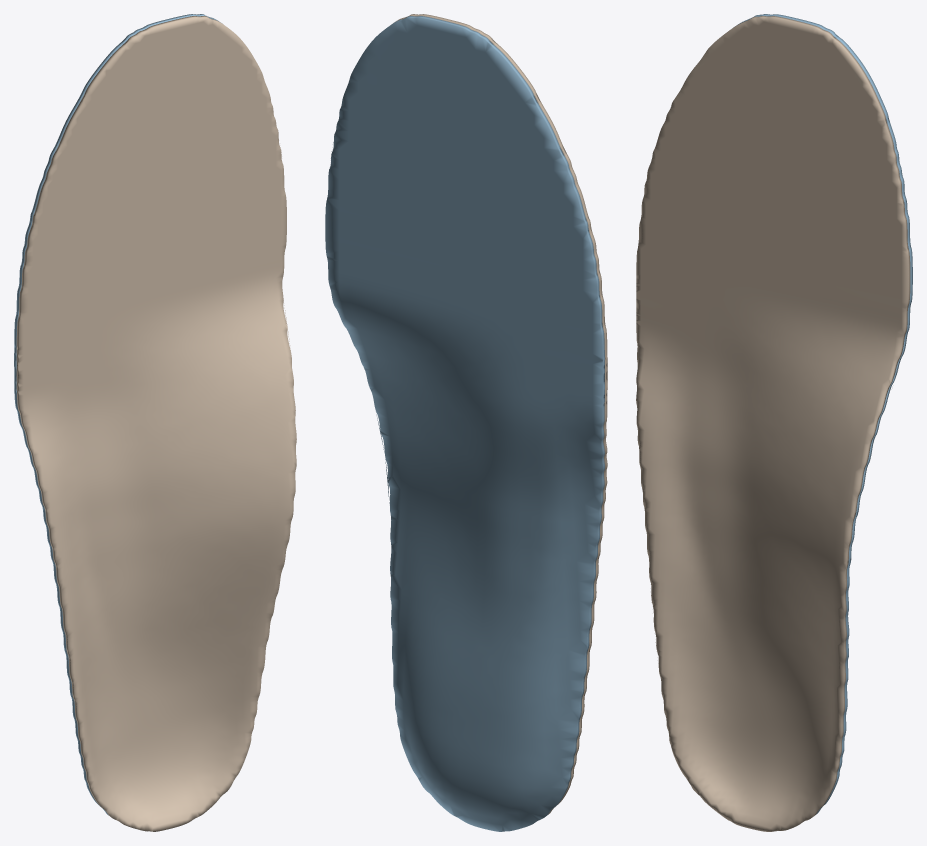
The model's file is PAIR-TOP-COVER_T2_addon.glb.
The picture shows the model from 3 angles, left to right: view 1: azimuth 30°, elevation 25°; view 2: azimuth 150°, elevation 25°; view 3: azimuth 330°, elevation 25°; orthographic projection. The views are drawn at different scales.
Visible parts, largest first — view 1: geometry_0; view 2: geometry_0; view 3: geometry_0.
Boxes of the visible parts, bbox=[...] form: geometry_0: bbox=[14, 14, 296, 831]; geometry_0: bbox=[325, 14, 607, 831]; geometry_0: bbox=[636, 14, 912, 831].
Bounding box in the file's own units: 99.51 × 280 × 24.81.
